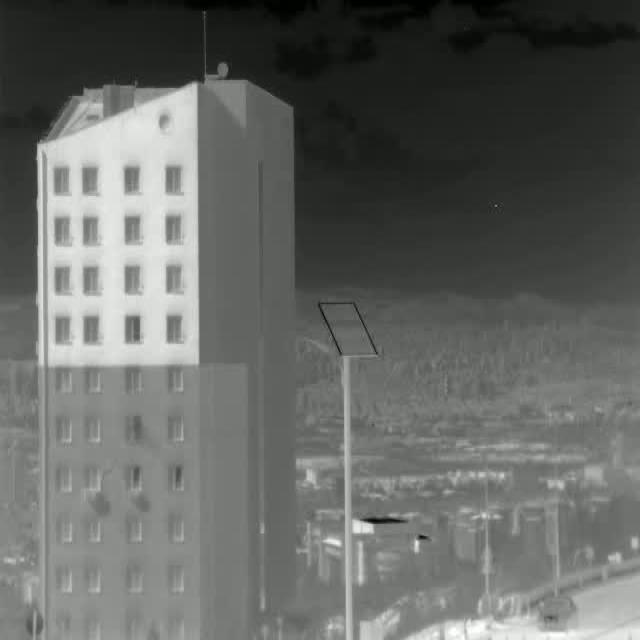Car: (536, 595, 576, 632)
